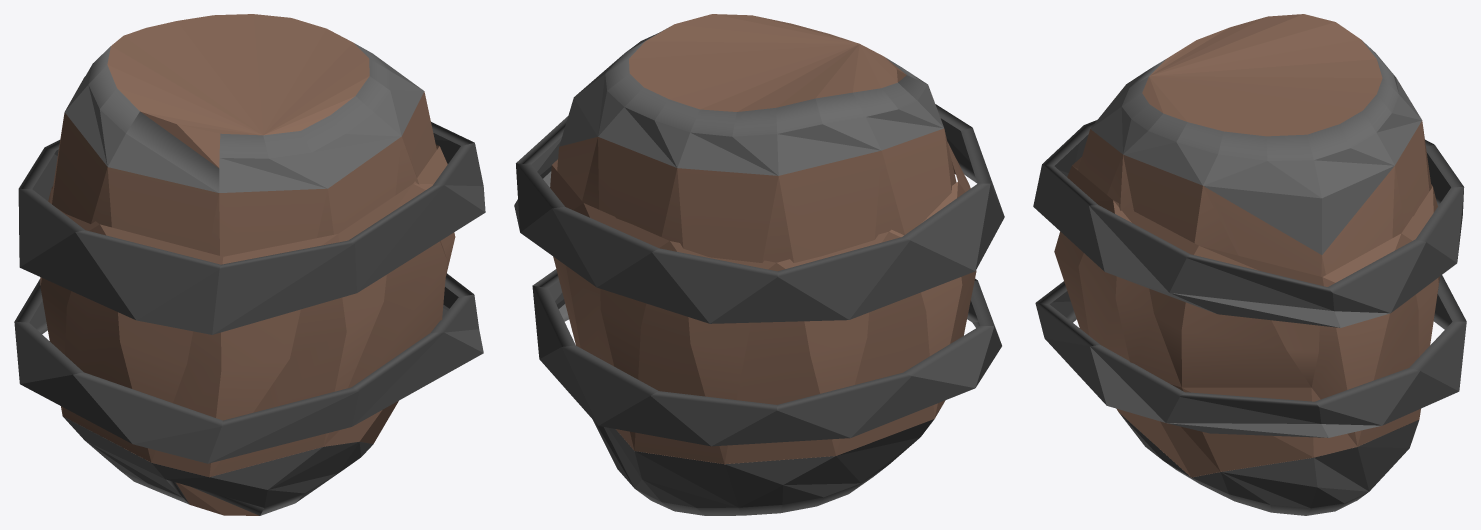
The model's file is Barile.fbx.
3 renders of one model, left to right at view 1: azimuth 30°, elevation 25°; view 2: azimuth 150°, elevation 25°; view 3: azimuth 270°, elevation 25°, orthographic. The views are drawn at different scales.
Parts seen in each view (by area): view 1: polySurface1; view 2: polySurface1; view 3: polySurface1.
Boxes of the visible parts, x1,y1,x2,y2 form: polySurface1: (14, 14, 485, 515); polySurface1: (514, 14, 1004, 515); polySurface1: (1033, 14, 1466, 515).
Size of the model in its own units: 9.2 by 8.88 by 8.55.
